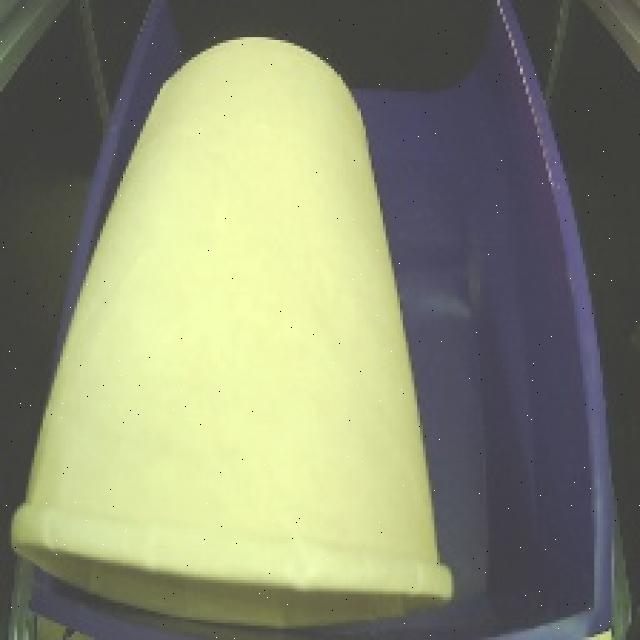cups: (0, 18, 475, 640)
